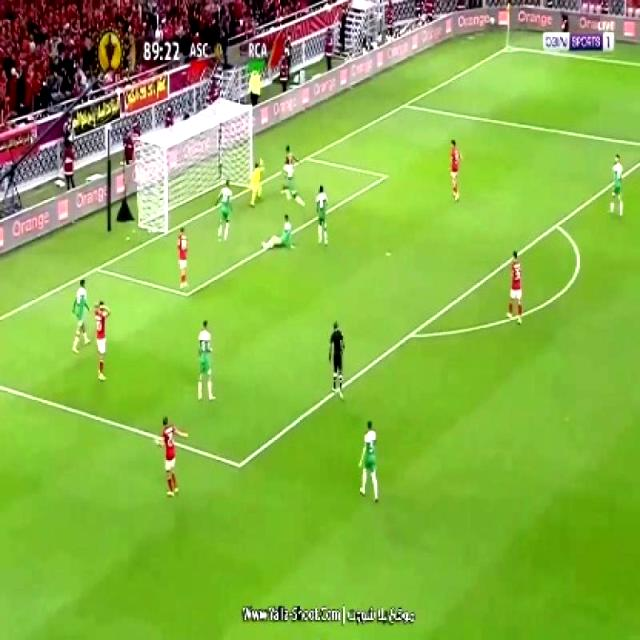bigarea_bottom_inner: (226, 446, 251, 480)
bigarea_top_outter: (396, 94, 412, 114)
bottom_arc_area_intersection: (400, 320, 422, 348)
corner: (498, 38, 517, 54)
smallarea_bottom_inner: (175, 277, 195, 308)
smallarea_bottom_outter: (86, 256, 106, 278)
smallarea_top_inner: (376, 165, 394, 188)
smallarea_top_outter: (296, 146, 314, 168)
top_arc_area_intersection: (548, 214, 562, 234), (601, 180, 614, 195)
